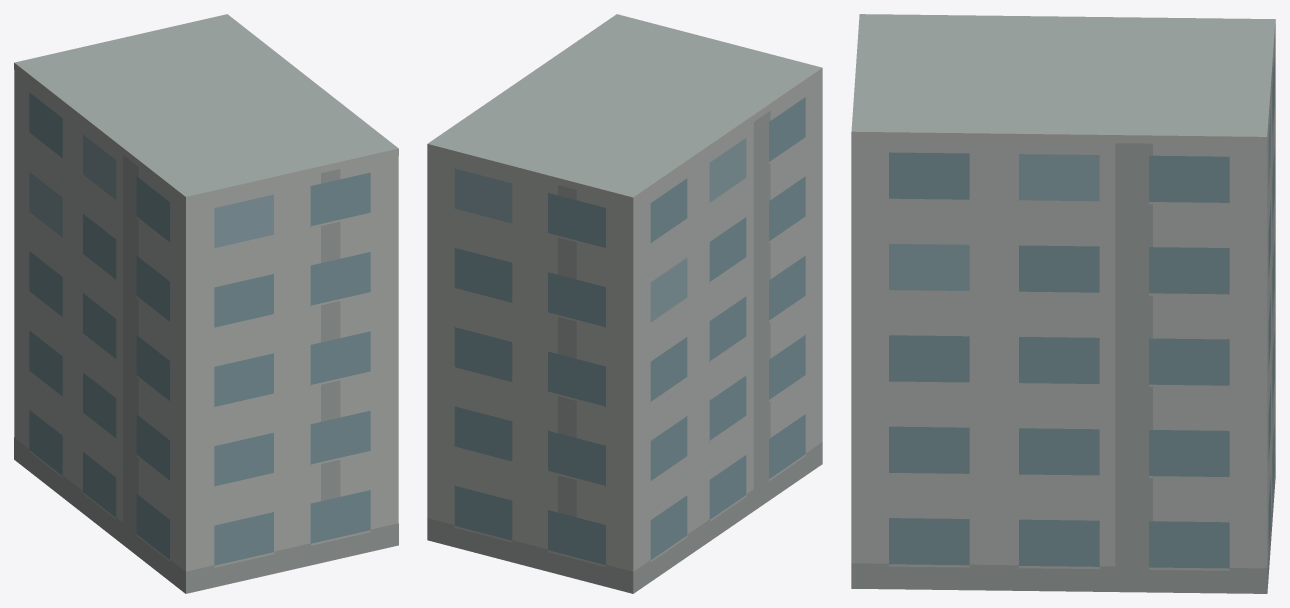
File: survey-upis-32840623.glb
3 renders of one model, left to right at view 1: azimuth 30°, elevation 25°; view 2: azimuth 150°, elevation 25°; view 3: azimuth 270°, elevation 25°, orthographic. The views are drawn at different scales.
Visible parts, largest first — view 1: survey-upis-32840623.tmp; view 2: survey-upis-32840623.tmp; view 3: survey-upis-32840623.tmp.
Boxes of the visible parts, x1,y1,x2,y2 form: survey-upis-32840623.tmp: [14, 14, 398, 593]; survey-upis-32840623.tmp: [427, 14, 822, 593]; survey-upis-32840623.tmp: [851, 14, 1275, 593].
Size of the model in its own units: 7.91 by 13.7 by 11.53.
